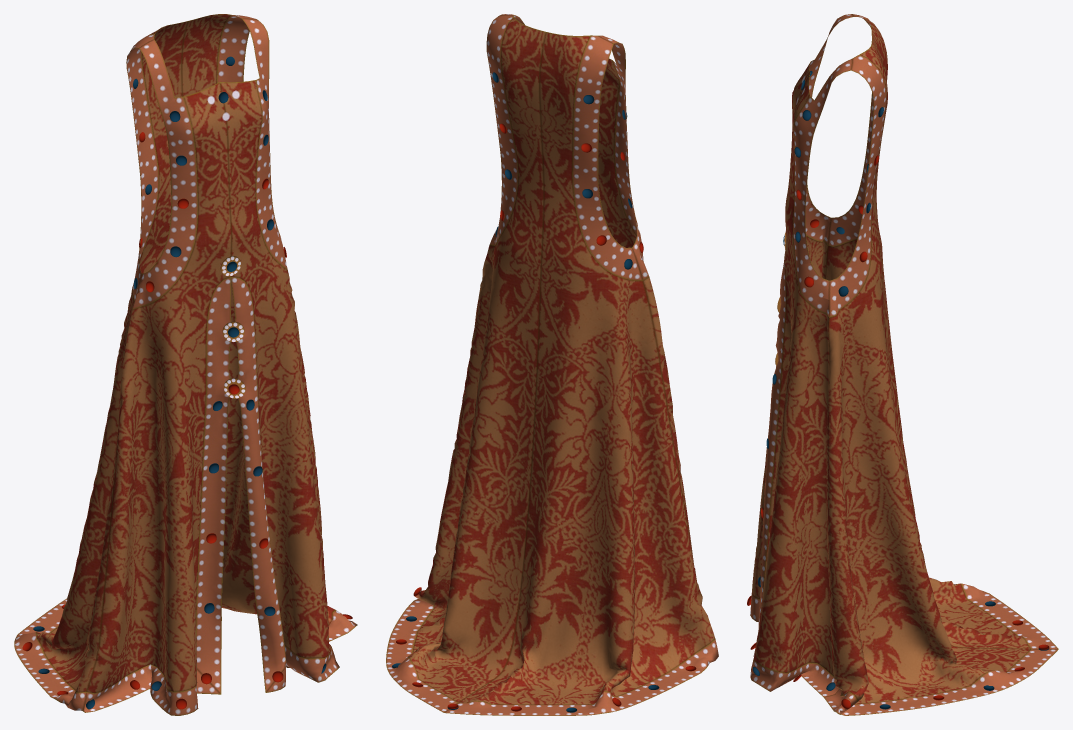
The model's file is surcoat-embroidered.glb.
The picture shows the model from 3 angles, left to right: view 1: azimuth 30°, elevation 25°; view 2: azimuth 150°, elevation 25°; view 3: azimuth 270°, elevation 25°; orthographic projection. The views are drawn at different scales.
Visible parts, largest first — view 1: defaultMaterial; view 2: defaultMaterial; view 3: defaultMaterial.
Boxes of the visible parts, <box> form: defaultMaterial: <box>14,14,357,715</box>; defaultMaterial: <box>386,14,718,715</box>; defaultMaterial: <box>747,14,1058,715</box>.
Bounding box in the file's own units: 308 × 617 × 285.
1 material, 1 textured.
